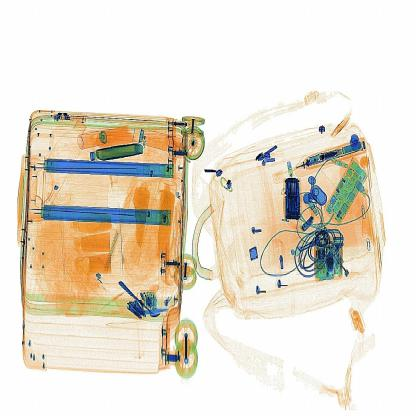scissors: (276, 168, 307, 224)
